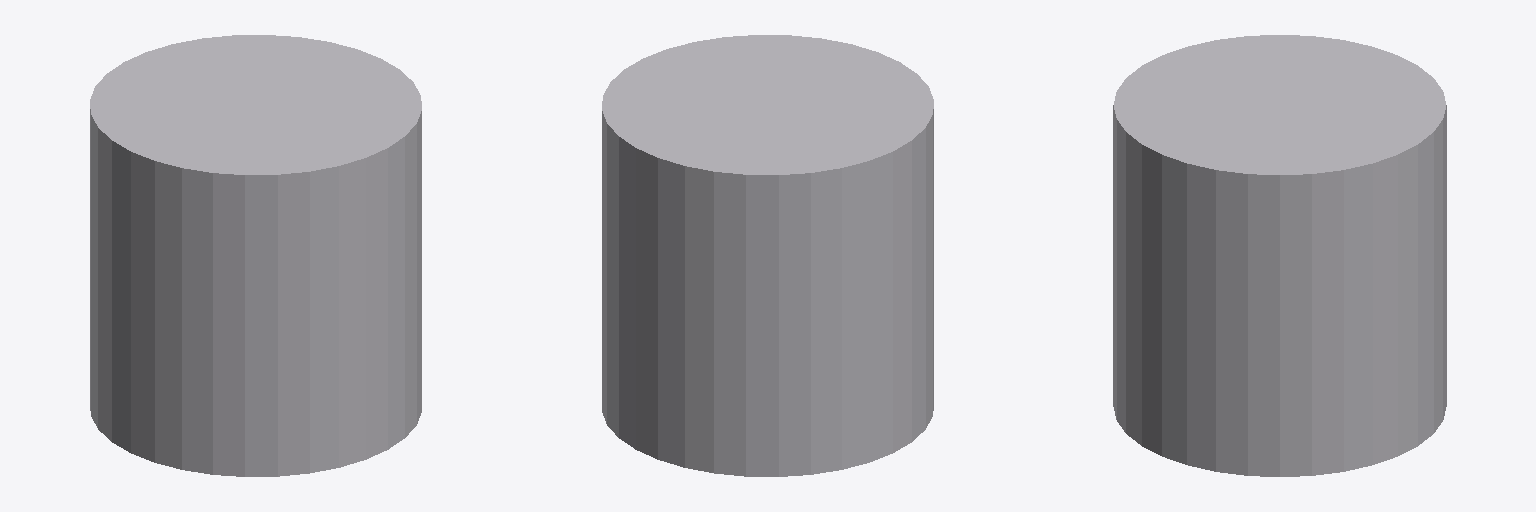
Rendered from przycisk.obj.
3 renders of one model, left to right at view 1: azimuth 30°, elevation 25°; view 2: azimuth 150°, elevation 25°; view 3: azimuth 270°, elevation 25°, orthographic.
Visible parts, largest first — view 1: Cylinder.003; view 2: Cylinder.003; view 3: Cylinder.003.
Part boxes in pixels (x1,y1,x2,y2): Cylinder.003: (90, 35, 421, 476); Cylinder.003: (602, 35, 933, 476); Cylinder.003: (1113, 35, 1446, 476).
Bounding box in the file's own units: 0.5381 × 0.5381 × 0.5381.